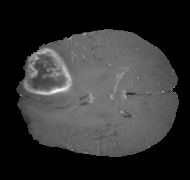Edema: (17, 46, 79, 108)
EnhancingTumors: (23, 48, 70, 94)
Necrosis: (22, 53, 69, 95)
